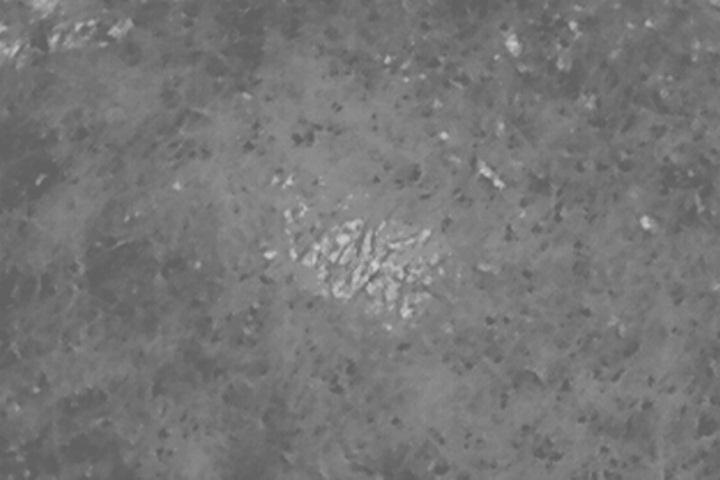landmine: (263, 168, 459, 332)
